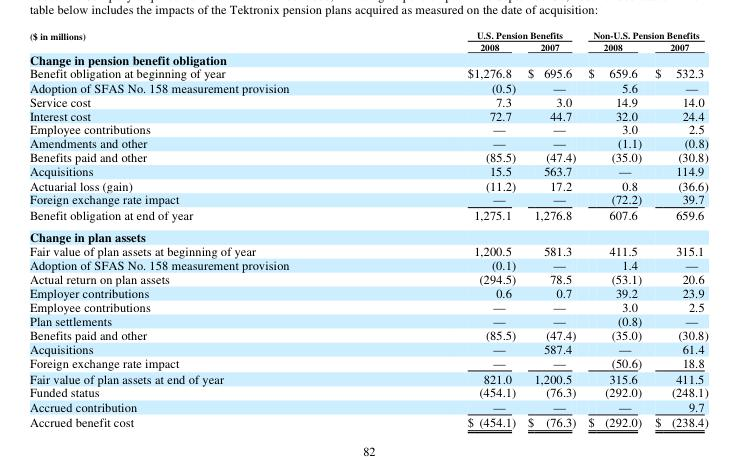table: (28, 29, 707, 429)
table column: (28, 29, 377, 429), (377, 29, 521, 429), (581, 29, 647, 429), (521, 29, 581, 429), (647, 29, 707, 429)
table column header: (28, 29, 707, 51)
table projected row header: (28, 225, 707, 243), (28, 51, 707, 66)
table row: (28, 207, 707, 225), (28, 225, 707, 243), (28, 51, 707, 66), (28, 192, 707, 207), (28, 355, 707, 370), (28, 370, 707, 385), (28, 399, 707, 414), (28, 414, 707, 429), (28, 66, 707, 80), (28, 80, 707, 94), (28, 94, 707, 108), (28, 108, 707, 122), (28, 122, 707, 136), (28, 136, 707, 150), (28, 150, 707, 164), (28, 164, 707, 178), (28, 178, 707, 192), (28, 243, 707, 257), (28, 257, 707, 271), (28, 271, 707, 285), (28, 285, 707, 299), (28, 299, 707, 313), (28, 313, 707, 327), (28, 327, 707, 341), (28, 341, 707, 355), (28, 385, 707, 399), (28, 29, 707, 40), (28, 40, 707, 51)
table spanning cell: (28, 29, 377, 51), (377, 29, 581, 40), (581, 29, 707, 40)
